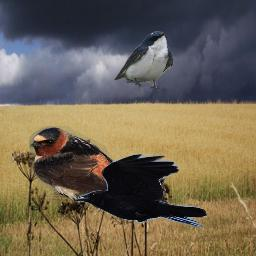Crow: (75, 154, 208, 228)
Swallow: (29, 126, 159, 203), (113, 31, 174, 92)
